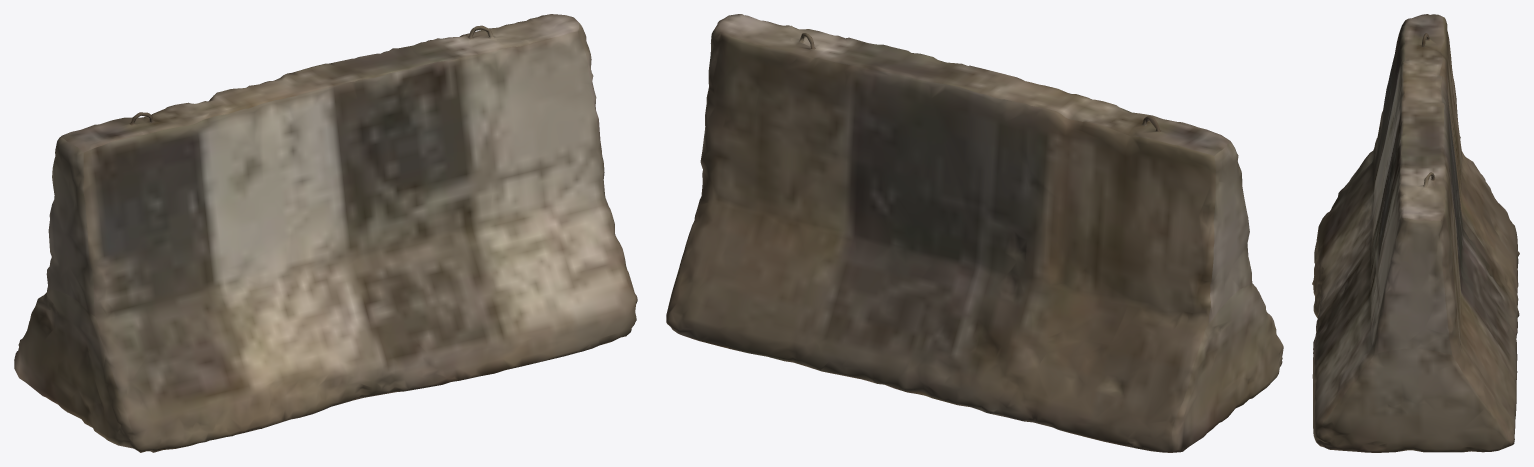
File: concrete_road_barrier_lod2.glb
The picture shows the model from 3 angles, left to right: view 1: azimuth 30°, elevation 25°; view 2: azimuth 150°, elevation 25°; view 3: azimuth 270°, elevation 25°; orthographic projection. The views are drawn at different scales.
Parts seen in each view (by area): view 1: concrete_road_barrier; view 2: concrete_road_barrier; view 3: concrete_road_barrier.
Boxes of the visible parts, x1=… form: concrete_road_barrier: x1=14, y1=14, x2=637, y2=452; concrete_road_barrier: x1=666, y1=14, x2=1283, y2=452; concrete_road_barrier: x1=1312, y1=14, x2=1519, y2=452.
Size of the model in its own units: 1.54 by 0.8303 by 0.6387.
1 material, 1 textured.
